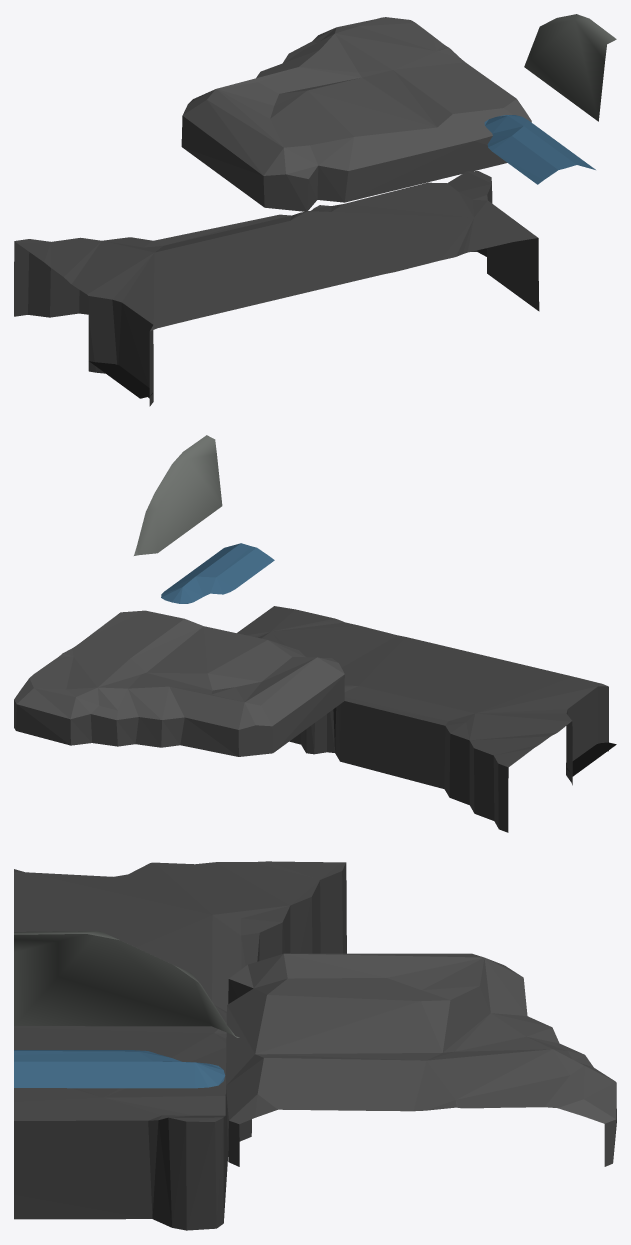
Rendered from newsho-11.glb.
3 views of the same model, one above another, from view 1: azimuth 30°, elevation 25°; view 2: azimuth 150°, elevation 25°; view 3: azimuth 270°, elevation 25° (orthographic). The views are drawn at different scales.
Parts seen in each view (by area): view 1: newsho-11; view 2: newsho-11; view 3: newsho-11.
Boxes of the visible parts, left/top/right/bottom form: newsho-11: left=14, top=14, right=616, bottom=406; newsho-11: left=14, top=435, right=616, bottom=832; newsho-11: left=14, top=861, right=616, bottom=1230.
Bounding box in the file's own units: 2 × 1.02 × 1.66.
